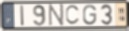3: (100, 4, 113, 27)
9: (32, 5, 47, 27)
C: (65, 4, 81, 26)
G: (82, 4, 98, 26)
I: (20, 4, 26, 27)
N: (48, 4, 65, 28)
